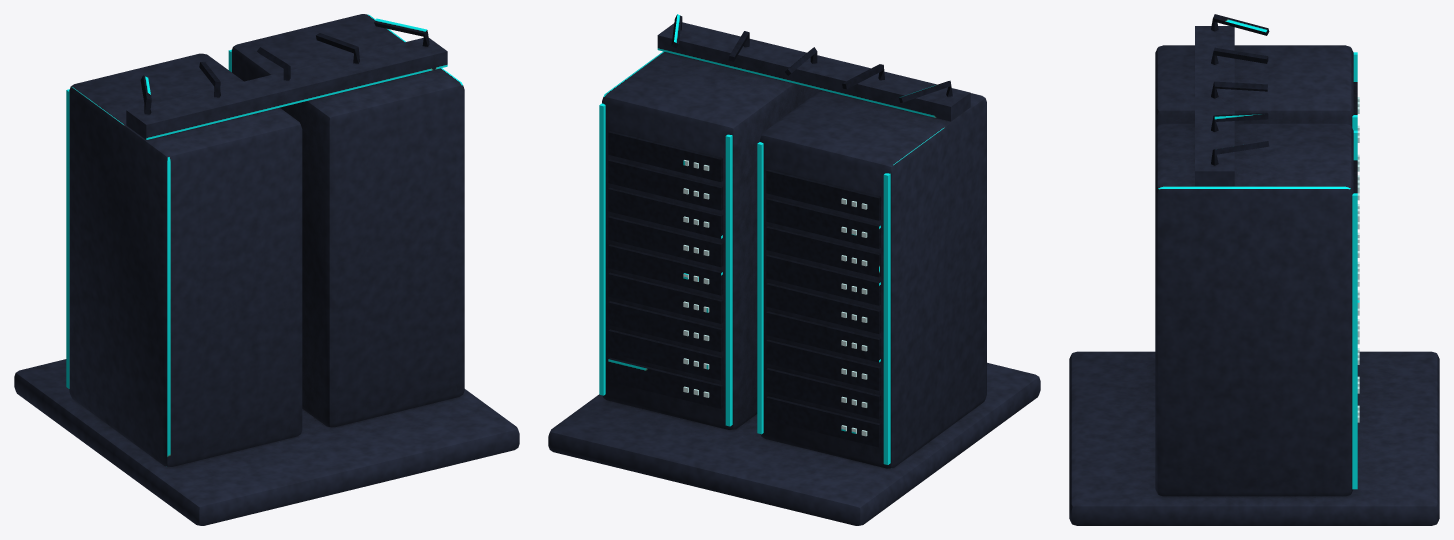
The model's file is server_rack.fbx.
3 renders of one model, left to right at view 1: azimuth 30°, elevation 25°; view 2: azimuth 150°, elevation 25°; view 3: azimuth 270°, elevation 25°, orthographic. The views are drawn at different scales.
Parts seen in each view (by area): view 1: server_rack, server_rack_glow; view 2: server_rack, server_rack_glow; view 3: server_rack, server_rack_glow.
Part boxes in pixels (x1,y1,x2,y2): server_rack: (14, 14, 519, 525); server_rack_glow: (66, 49, 231, 388); server_rack: (548, 14, 1040, 525); server_rack_glow: (599, 103, 890, 464); server_rack: (1069, 14, 1439, 525); server_rack_glow: (1352, 52, 1357, 489).
Size of the model in its own units: 560 by 616 by 560.
1 material, 1 textured.
